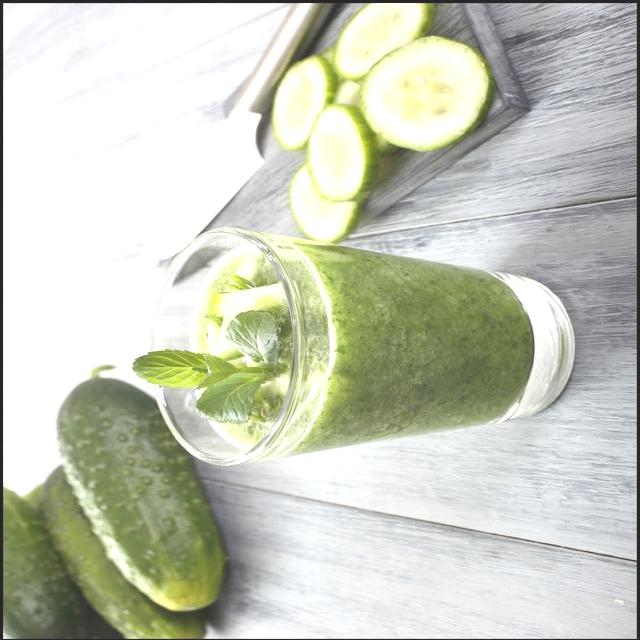cucumber: (52, 375, 231, 619), (34, 471, 204, 640), (1, 489, 82, 640)
